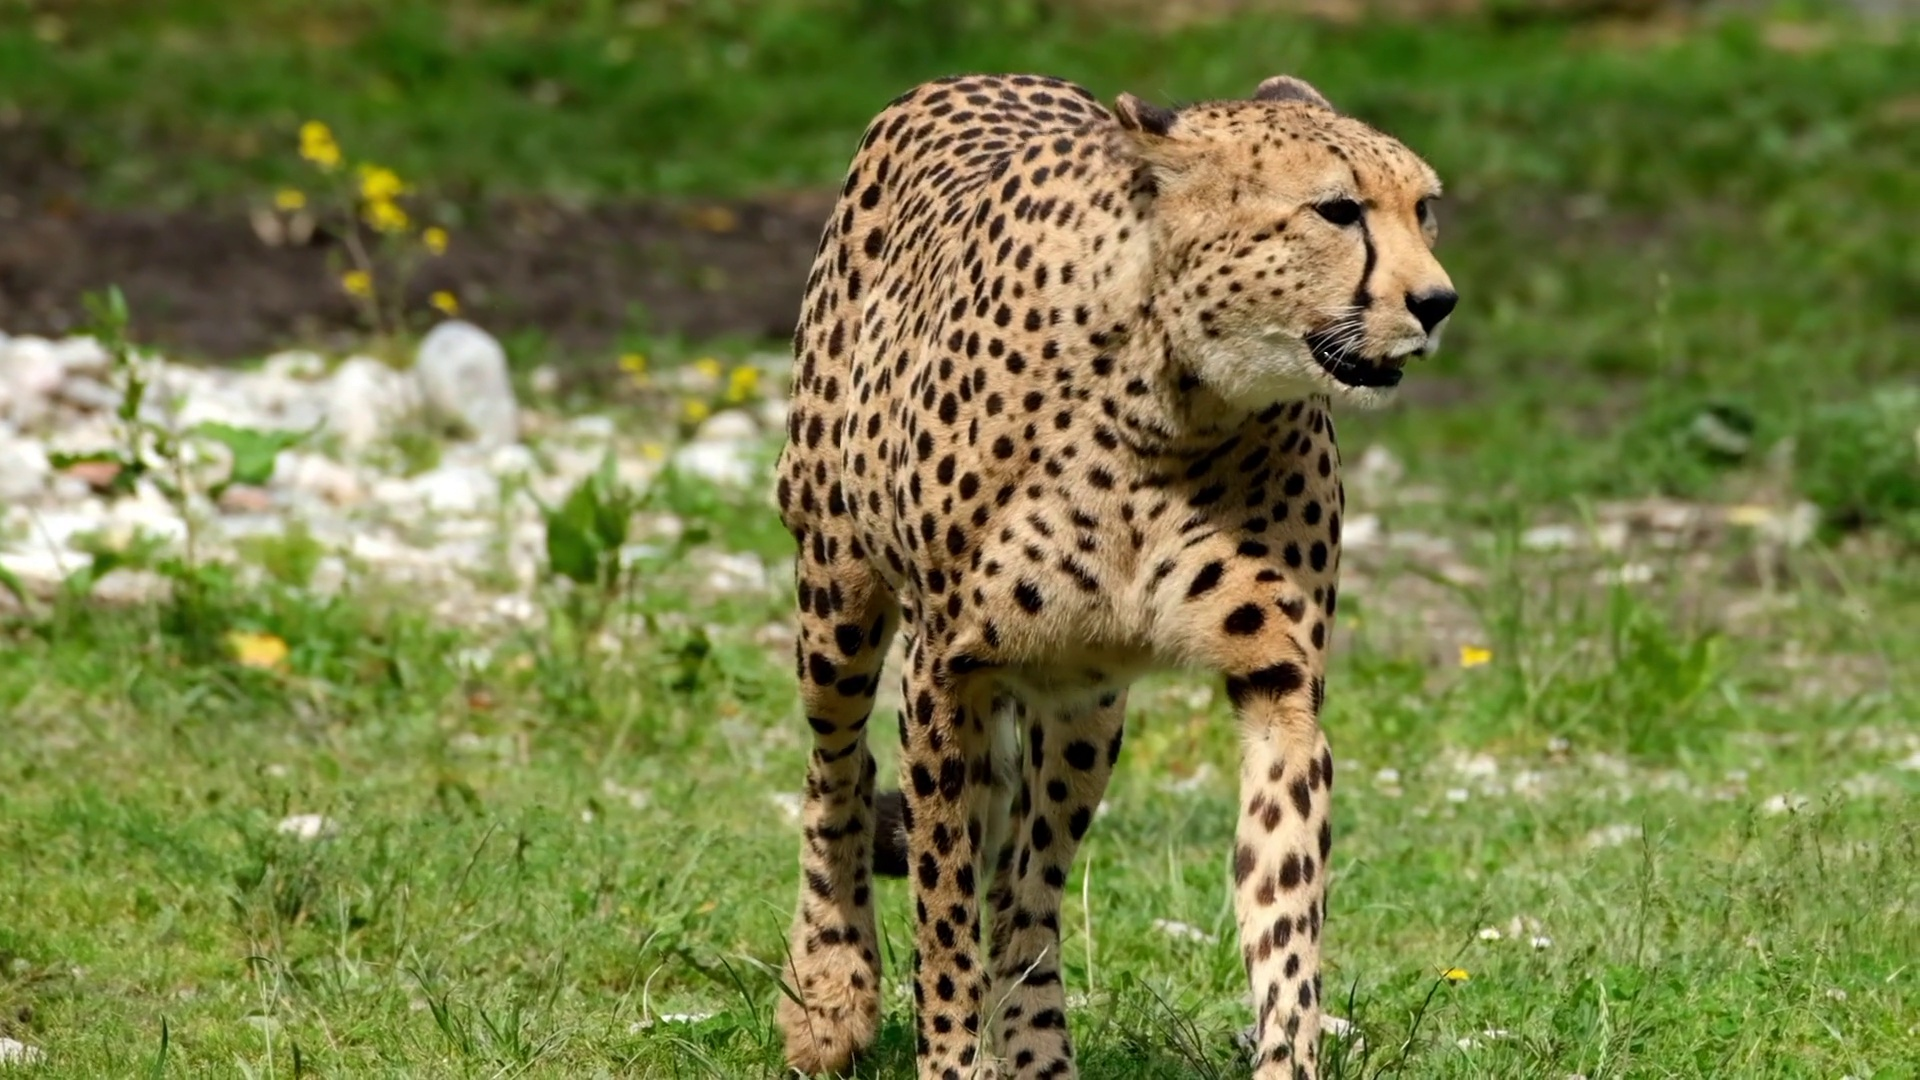Cheetah: (766, 65, 1466, 1080)
